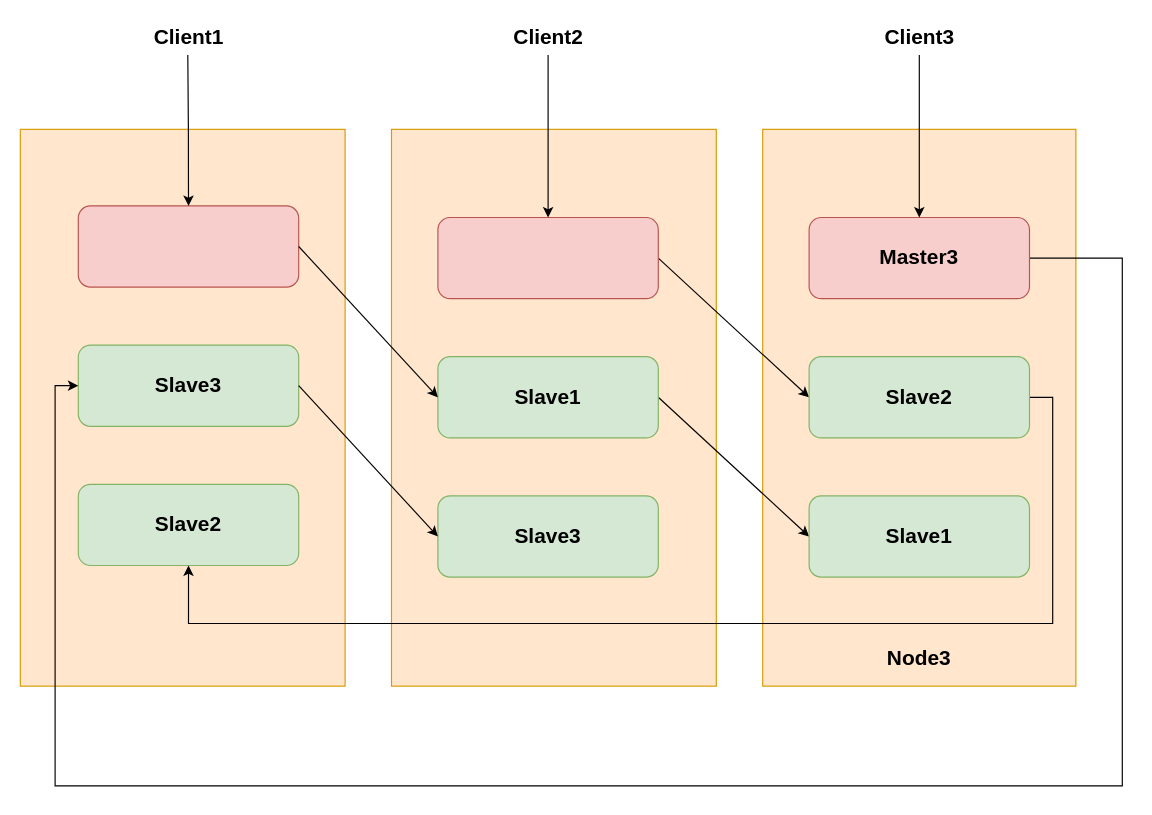
The diagram is 1152 pixels wide and 815 high, and some of its shapes have lost their labels. Here are the shapes that lost their labels. From the top down, the box of each, then its label:
(77, 205, 299, 287): Master1
(437, 216, 658, 299): Master2
(19, 128, 345, 686): Node1
(390, 128, 716, 686): Node2
